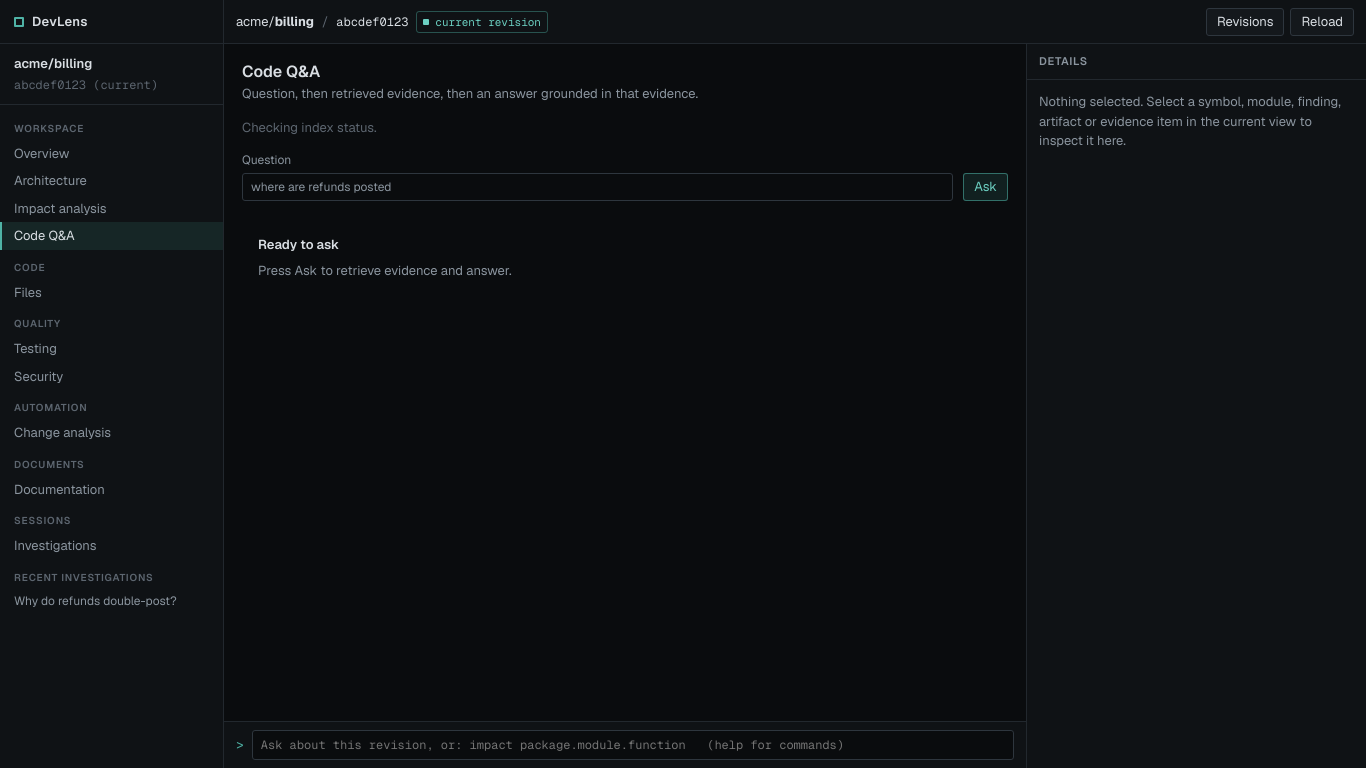
Test case: Q&A from a link › pre-fills the question and only POSTs after an explicit Ask
Expected: the text "Ready to ask" is shown, [258,236,339,253]
Expected: the field labelled "Question" holds "where are refunds posted", [242,173,953,201]
Click the button "Ask": {"x": 986, "y": 187} [963,173,1008,201]
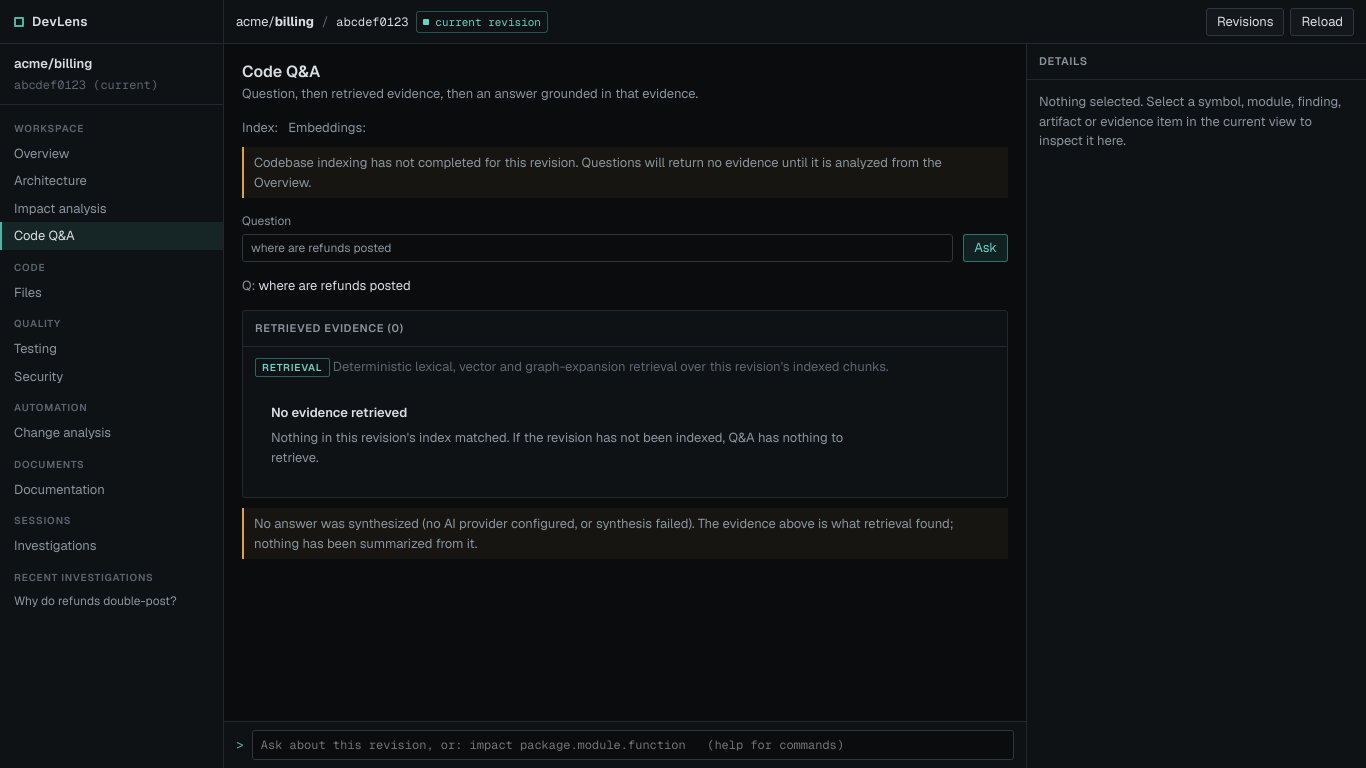
Result: the text "No evidence retrieved" is shown at [271,404,407,420]
